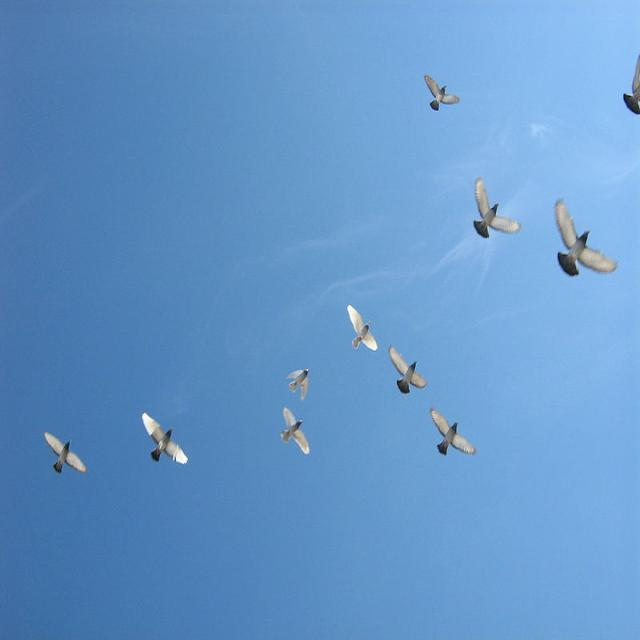bird: (555, 196, 619, 280), (472, 178, 526, 237), (431, 410, 480, 456), (142, 414, 188, 463), (43, 431, 88, 476), (388, 348, 428, 394), (423, 74, 462, 112), (347, 304, 380, 348), (280, 410, 310, 454), (286, 367, 312, 402)
